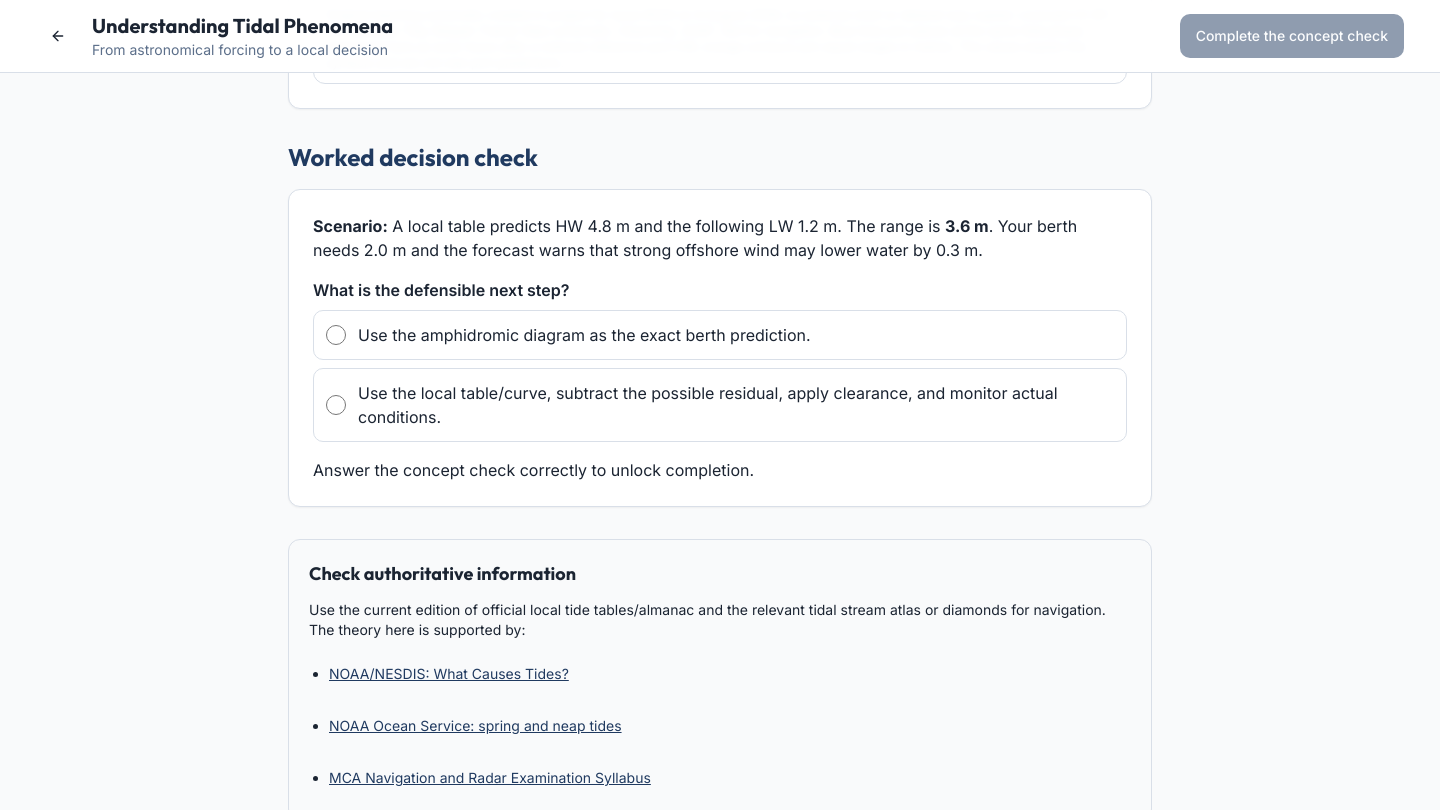
it: Tides durable evidence completion › distinguishes the queued durable outcome
(page scrolled)
What coordinates should you click on to do the following:
click the radio button labelled "Use the local table/curve"
I would click on:
 (336, 405)
Its box is left=326, top=395, right=346, bottom=415.
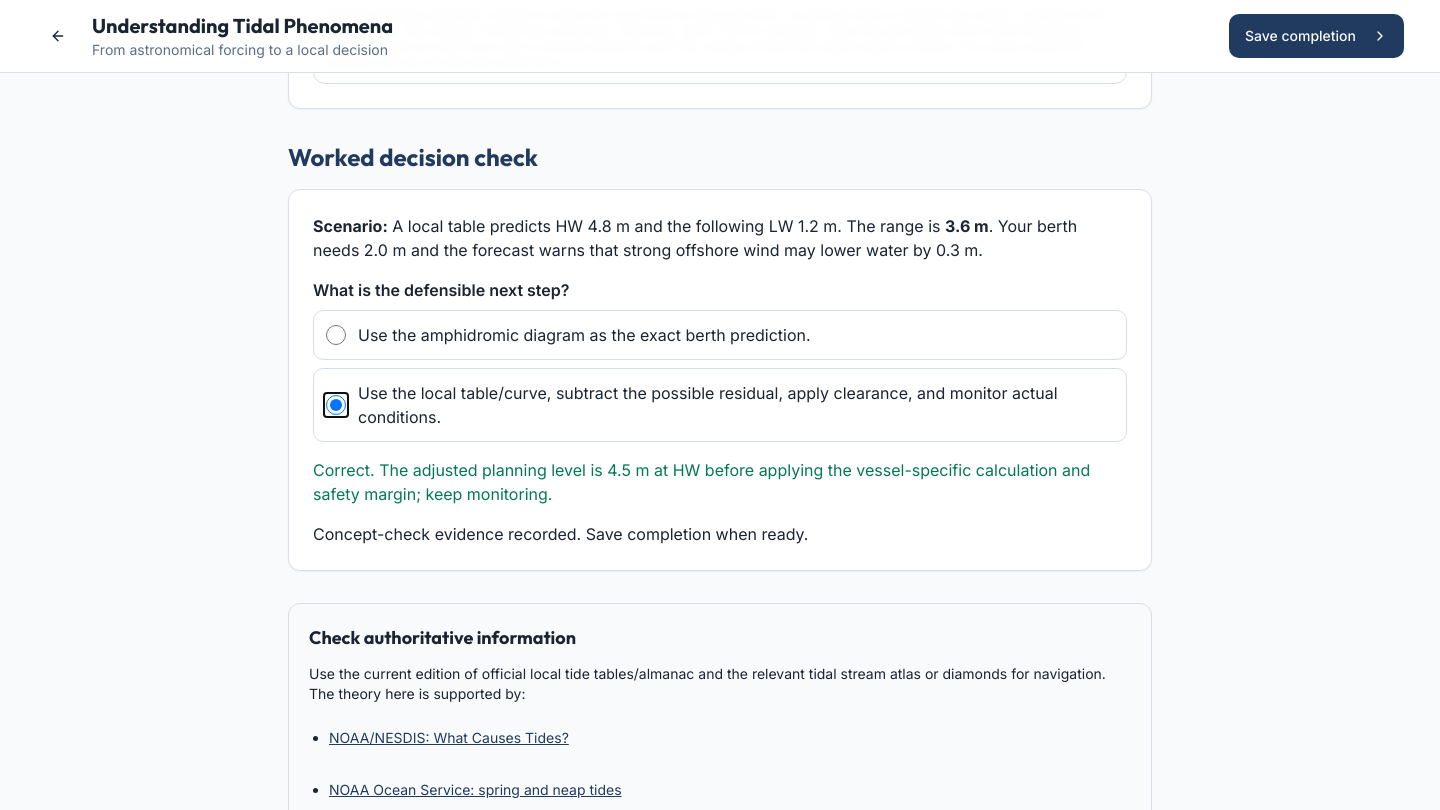
What coordinates should you click on to do the following:
click the button "Save completion"
I would click on:
 (1316, 36)
Its box is left=1229, top=14, right=1404, bottom=58.
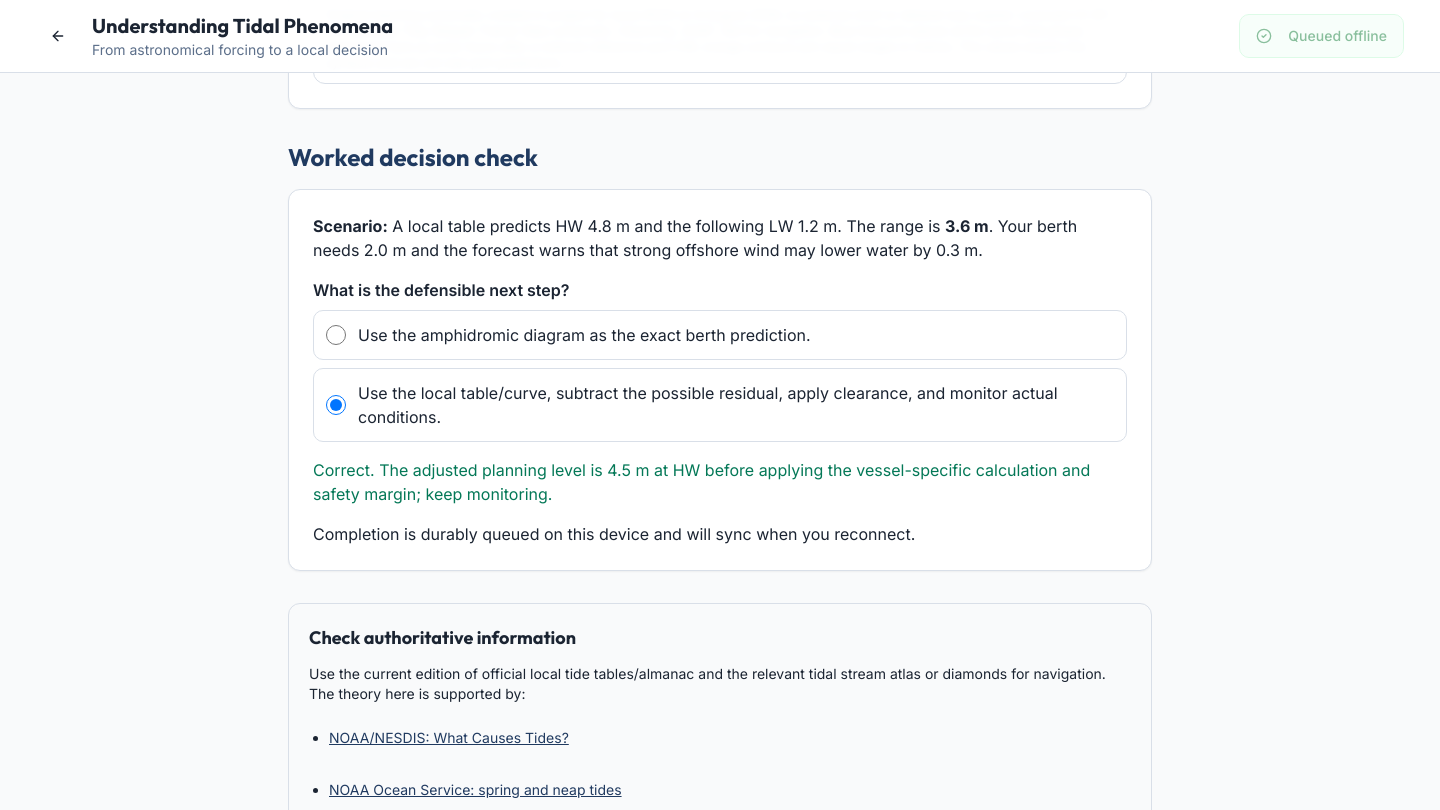
Expected: the text "Completion is durably queued on this device" is shown, left=313, top=524, right=915, bottom=544
